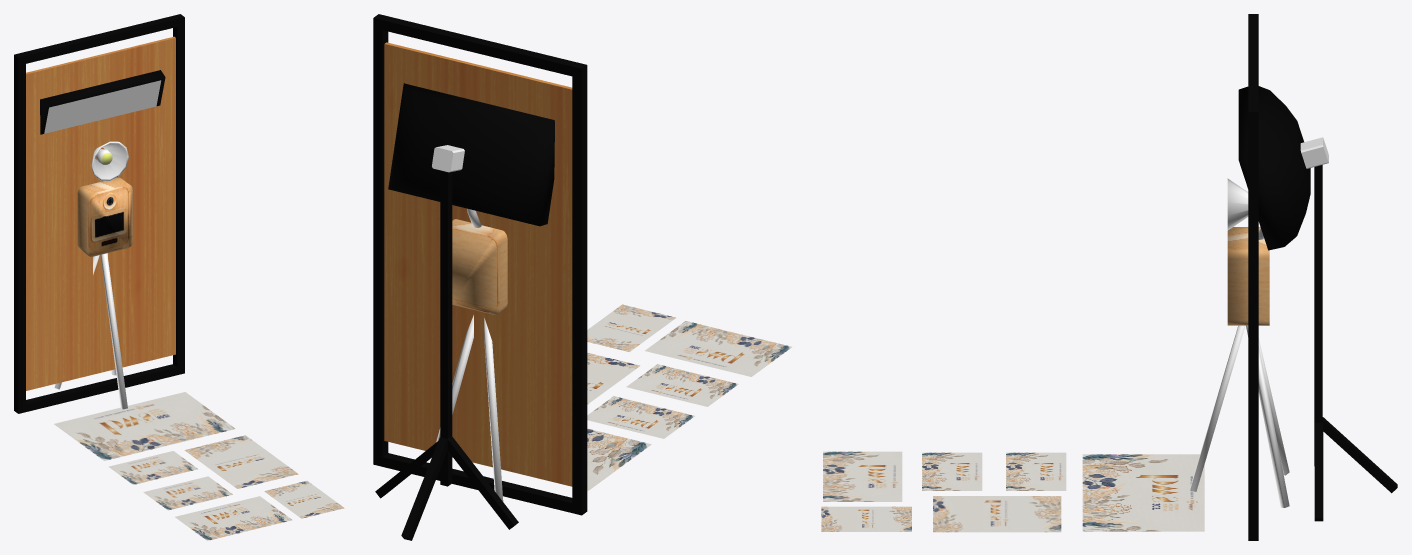
File: PropertyBoothBWS.fbx
The picture shows the model from 3 angles, left to right: view 1: azimuth 30°, elevation 25°; view 2: azimuth 150°, elevation 25°; view 3: azimuth 270°, elevation 25°; orthographic projection. The views are drawn at different scales.
Parts seen in each view (by area): view 1: BackgroundPhoto, Foto6, OldCamStand, Plane, Foto4, Foto1, Foto5, Foto3, Foto2; view 2: BackgroundPhoto, Plane, OldCamStand, Foto1, Foto3, Foto5, Foto2, Foto6, Foto4; view 3: Plane, Foto6, OldCamStand, BackgroundPhoto, Foto4, Foto1, Foto3, Foto5, Foto2.
Boxes of the visible parts, x1,y1,x2,y2 form: BackgroundPhoto: [14, 14, 184, 413]; Foto6: [54, 392, 235, 460]; OldCamStand: [54, 141, 132, 409]; Plane: [40, 70, 165, 134]; Foto4: [184, 435, 298, 488]; Foto1: [175, 496, 292, 540]; Foto5: [108, 451, 198, 484]; Foto3: [143, 476, 232, 510]; Foto2: [264, 480, 344, 518]; BackgroundPhoto: [373, 14, 587, 515]; Plane: [375, 83, 554, 540]; OldCamStand: [436, 208, 507, 501]; Foto1: [645, 321, 791, 376]; Foto3: [626, 364, 738, 406]; Foto5: [587, 396, 694, 438]; Foto2: [587, 304, 676, 351]; Foto6: [424, 428, 651, 490]; Foto4: [587, 352, 640, 404]; Plane: [1238, 86, 1397, 521]; Foto6: [1082, 454, 1204, 531]; OldCamStand: [1190, 178, 1289, 507]; BackgroundPhoto: [1248, 14, 1258, 540]; Foto4: [933, 496, 1061, 532]; Foto1: [823, 451, 902, 501]; Foto3: [922, 452, 982, 490]; Foto5: [1006, 452, 1066, 490]; Foto2: [821, 506, 911, 531].
Size of the model in its own units: 1.1 by 2.26 by 2.74.
